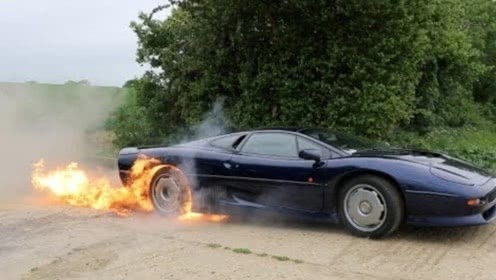fire: (29, 152, 170, 213), (178, 204, 227, 222)
